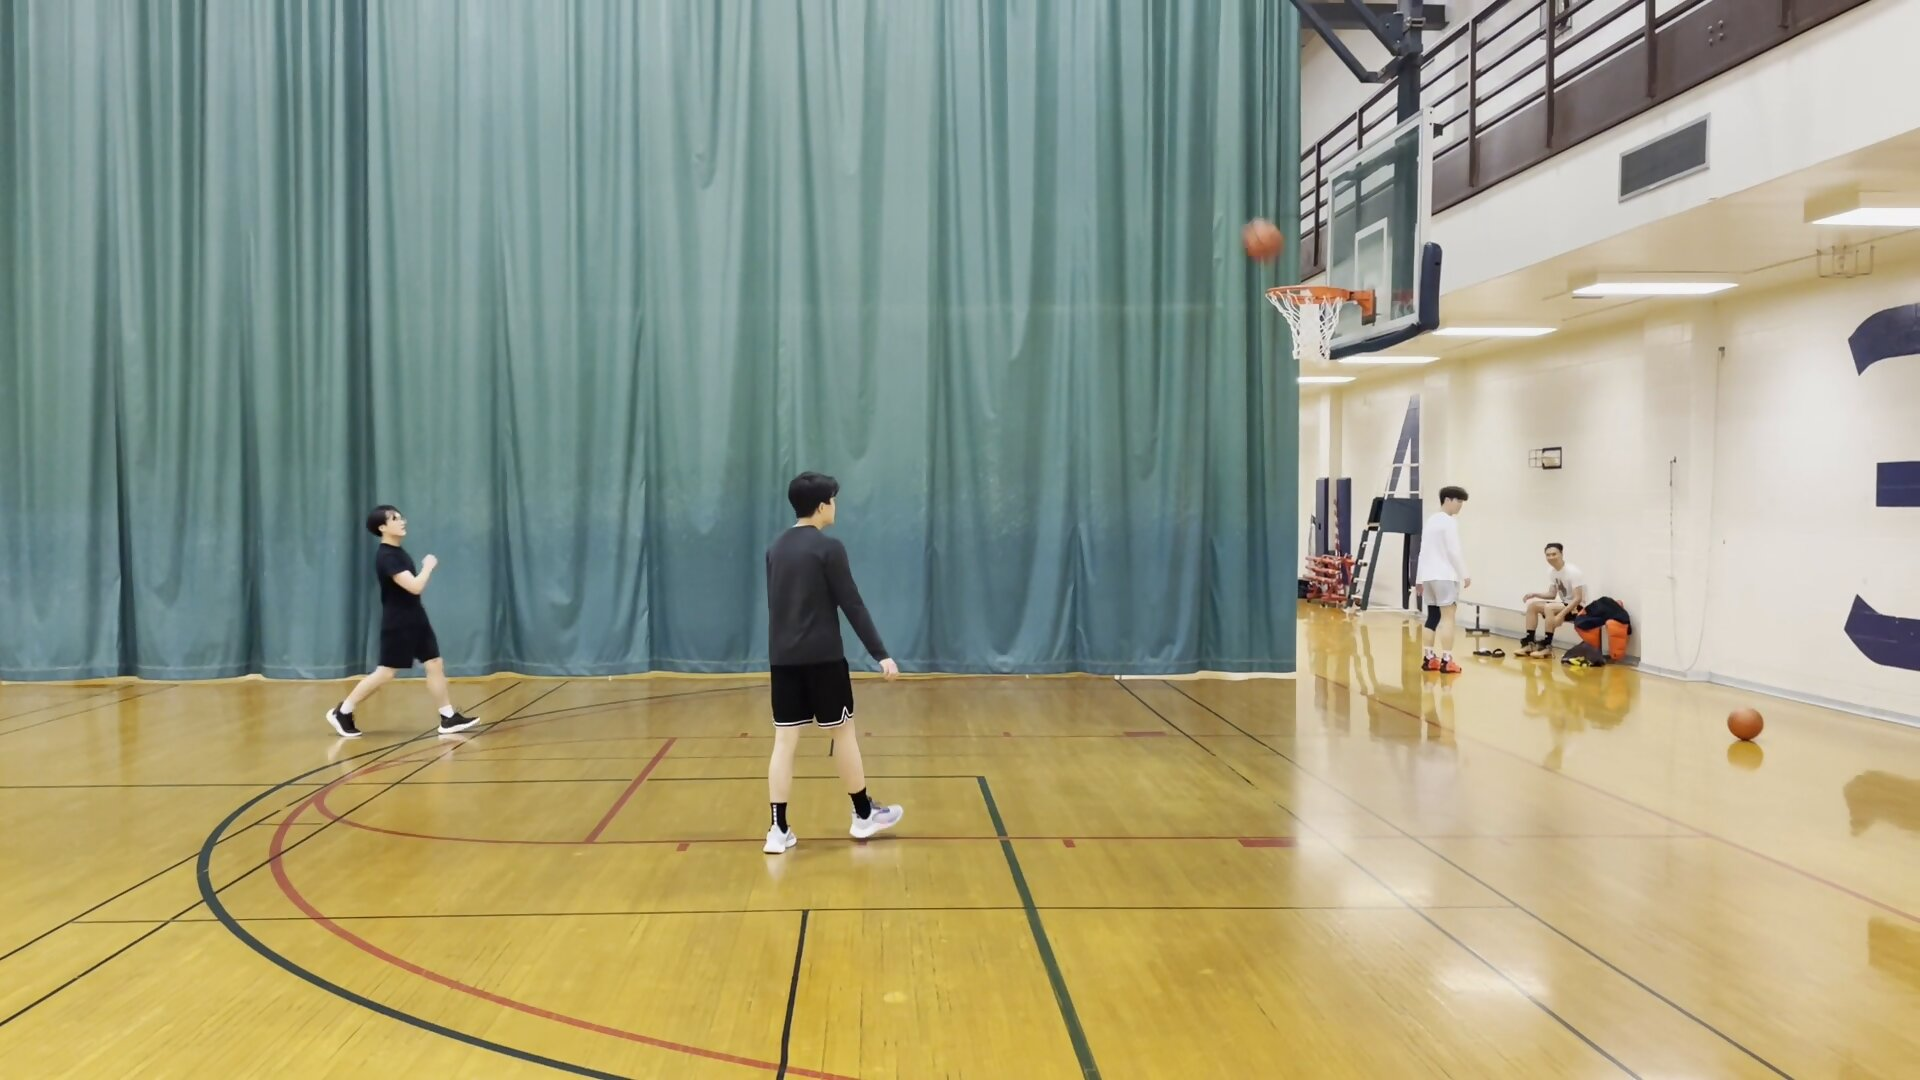ball: (1241, 220, 1286, 260), (1729, 701, 1768, 744)
net: (1286, 338, 1336, 370)
player: (758, 476, 901, 857), (330, 500, 483, 741), (1421, 484, 1469, 678), (1514, 536, 1587, 659)
rim: (1260, 278, 1353, 303)
